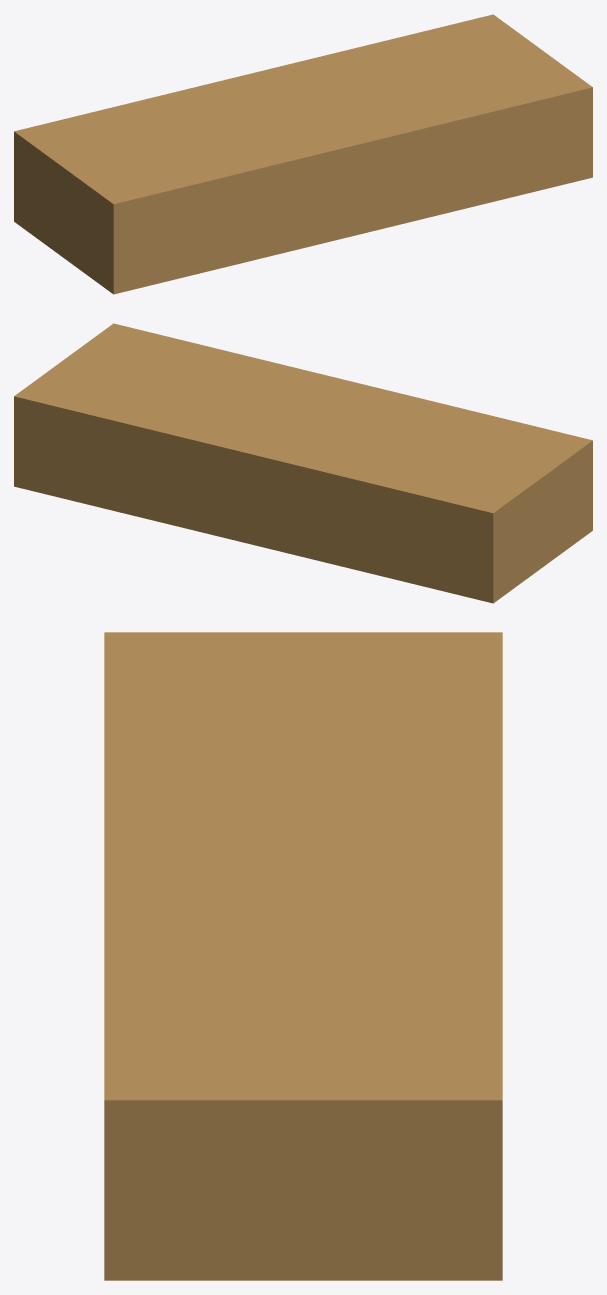
3 views of the same model, one above another, from view 1: azimuth 30°, elevation 25°; view 2: azimuth 150°, elevation 25°; view 3: azimuth 270°, elevation 25° (orthographic). The views are drawn at different scales.
Parts seen in each view (by area): view 1: RUN-000-S01-NOG-04; view 2: RUN-000-S01-NOG-04; view 3: RUN-000-S01-NOG-04.
Boxes of the visible parts, x1,y1,x2,y2 form: RUN-000-S01-NOG-04: (14,14,592,294); RUN-000-S01-NOG-04: (14,323,592,603); RUN-000-S01-NOG-04: (104,632,502,1280).
Size of the model in its own units: 0.2501 by 0.045 by 0.09.
